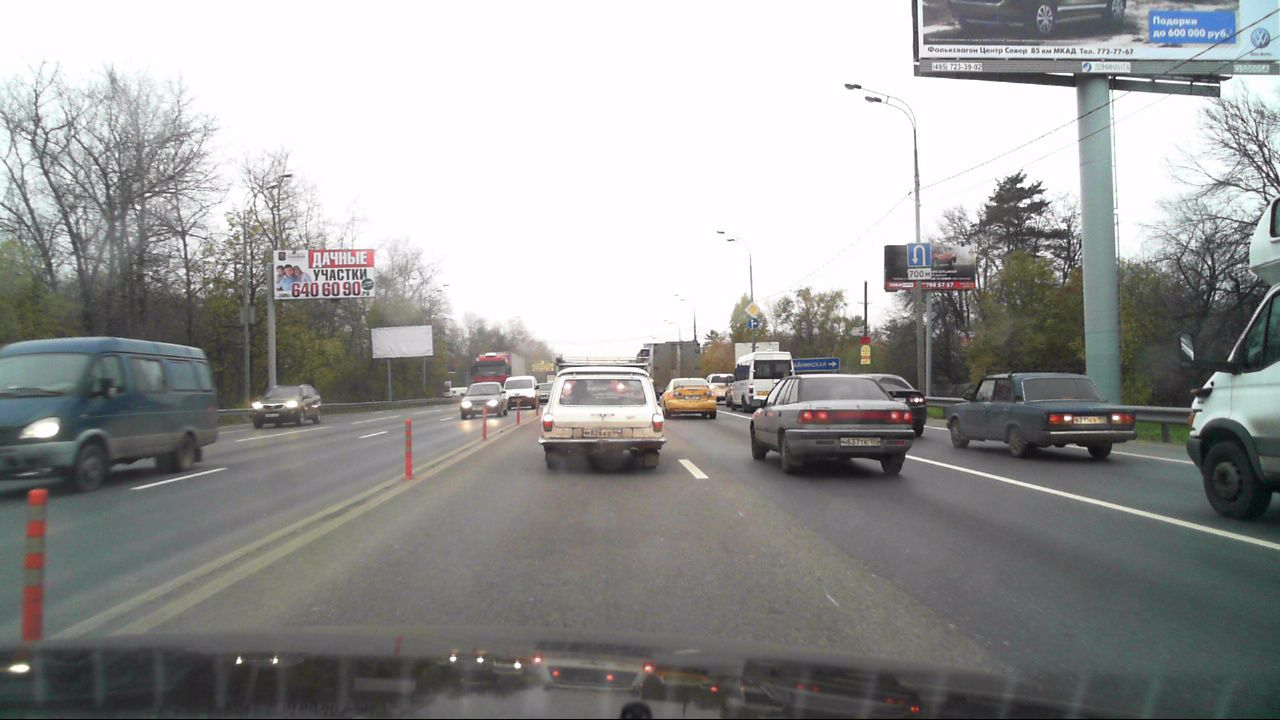U-turn: (908, 243, 931, 266)
